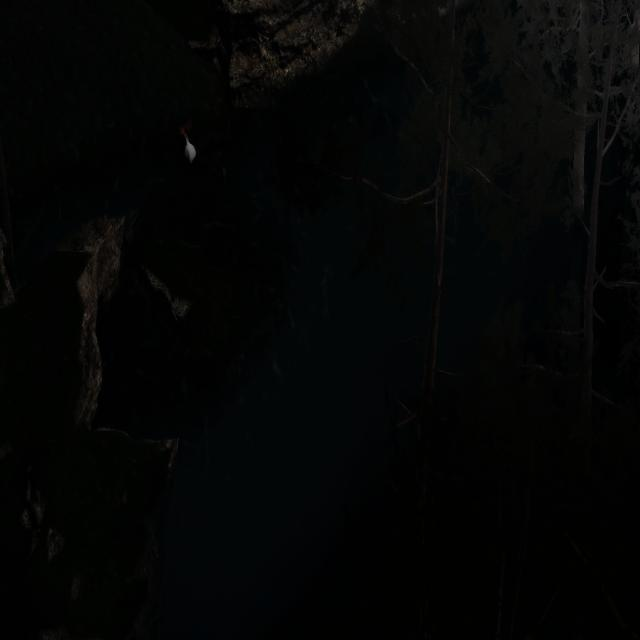Human: (175, 111, 236, 200)
